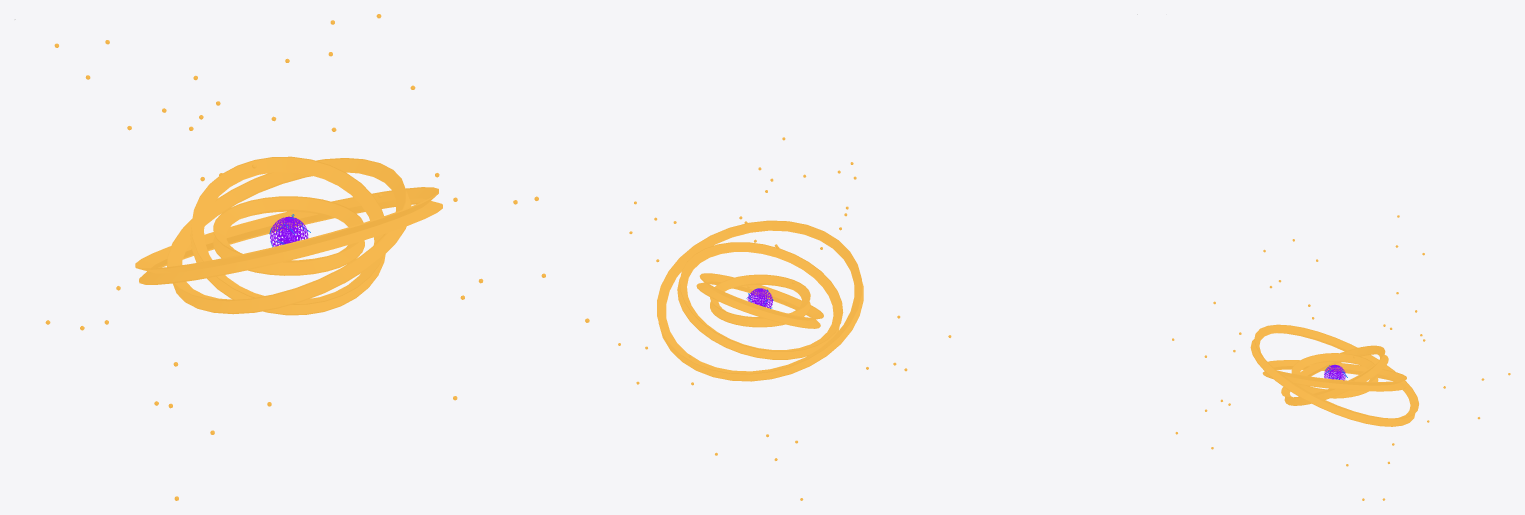
3 views of the same model, side by side, from view 1: azimuth 30°, elevation 25°; view 2: azimuth 150°, elevation 25°; view 3: azimuth 270°, elevation 25° (orthographic). The views are drawn at different scales.
Parts seen in each view (by area): view 1: Ring.002, Ring.003, Ring.001, Ring, Globa; view 2: Ring.002, Ring.003, Ring.001, Ring; view 3: Ring.002, Ring.003, Ring.001, Ring.
Boxes of the visible parts, <box> form: Ring.002: <box>135,187,442,284</box>; Ring.003: <box>167,158,411,314</box>; Ring.001: <box>190,156,385,315</box>; Ring: <box>213,196,364,275</box>; Globa: <box>270,216,308,246</box>; Ring.002: <box>657,220,863,381</box>; Ring.003: <box>677,242,843,359</box>; Ring.001: <box>696,273,823,328</box>; Ring: <box>710,274,810,327</box>; Ring.002: <box>1250,324,1418,426</box>; Ring.003: <box>1262,360,1406,391</box>; Ring.001: <box>1281,345,1388,405</box>; Ring: <box>1291,353,1378,398</box>.
Bounding box in the file's own units: 555 × 626 × 496.
